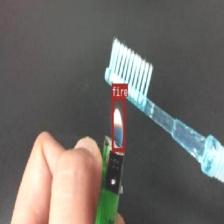fire: (111, 97, 125, 151)
